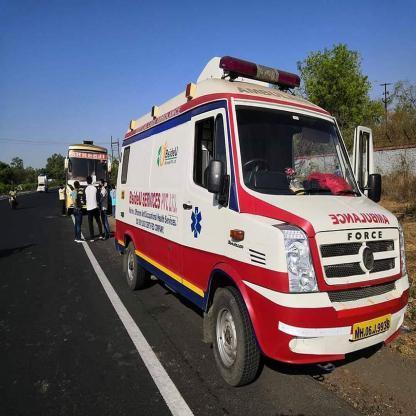Ambulance: (323, 208, 397, 231), (184, 200, 208, 240)
